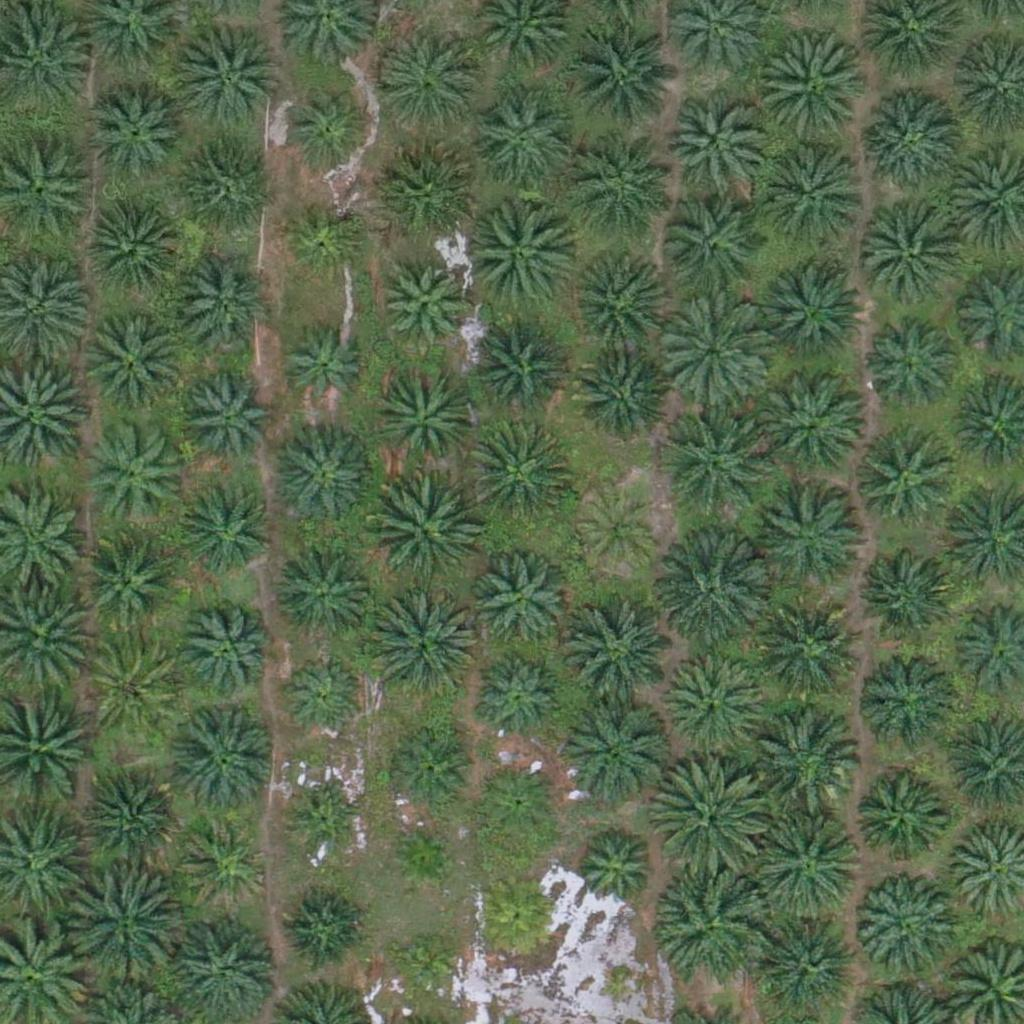Kelapa_Sawit: (655, 409, 768, 523), (456, 195, 569, 308), (755, 33, 868, 146), (658, 866, 771, 979), (748, 702, 861, 815), (655, 535, 768, 648), (365, 588, 478, 701), (366, 476, 479, 589), (751, 803, 863, 917), (653, 755, 765, 869), (172, 22, 284, 135), (376, 22, 488, 135), (565, 22, 677, 135), (656, 294, 768, 407), (757, 137, 869, 250), (64, 871, 176, 984), (464, 418, 576, 531), (166, 702, 278, 815), (562, 601, 674, 714), (557, 694, 669, 807), (89, 198, 189, 299), (89, 81, 189, 182), (173, 145, 273, 246), (178, 254, 278, 355), (388, 141, 488, 242), (470, 88, 570, 189), (461, 317, 561, 418), (564, 248, 664, 349), (574, 148, 674, 249), (665, 91, 765, 192), (763, 256, 863, 357), (864, 87, 964, 188), (863, 212, 963, 313), (848, 768, 948, 869), (855, 876, 955, 977), (664, 656, 764, 757), (469, 550, 569, 651), (373, 369, 473, 470), (271, 429, 371, 530), (273, 542, 373, 643), (175, 601, 275, 702), (81, 419, 181, 520), (78, 529, 178, 630), (85, 312, 185, 412), (658, 198, 758, 298), (79, 772, 179, 872), (762, 914, 862, 1014), (860, 646, 960, 746), (852, 426, 952, 526), (857, 542, 957, 642), (763, 375, 863, 475), (763, 492, 863, 592), (755, 605, 855, 705), (565, 345, 665, 445), (84, 638, 184, 738), (473, 870, 561, 959), (282, 193, 370, 281), (282, 80, 370, 168), (377, 261, 465, 349), (473, 757, 561, 845), (574, 488, 662, 576), (278, 655, 366, 743), (181, 487, 269, 575), (180, 378, 268, 466), (475, 653, 562, 742), (277, 325, 364, 413), (866, 321, 953, 409), (181, 820, 268, 908), (280, 884, 367, 972), (569, 825, 656, 913), (384, 727, 471, 815), (384, 819, 459, 895), (388, 927, 463, 1003), (290, 790, 365, 865)
